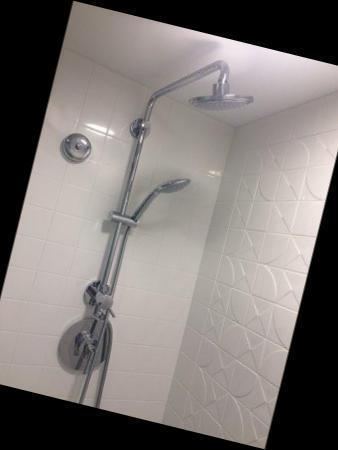Ducha: (0, 1, 338, 448)
